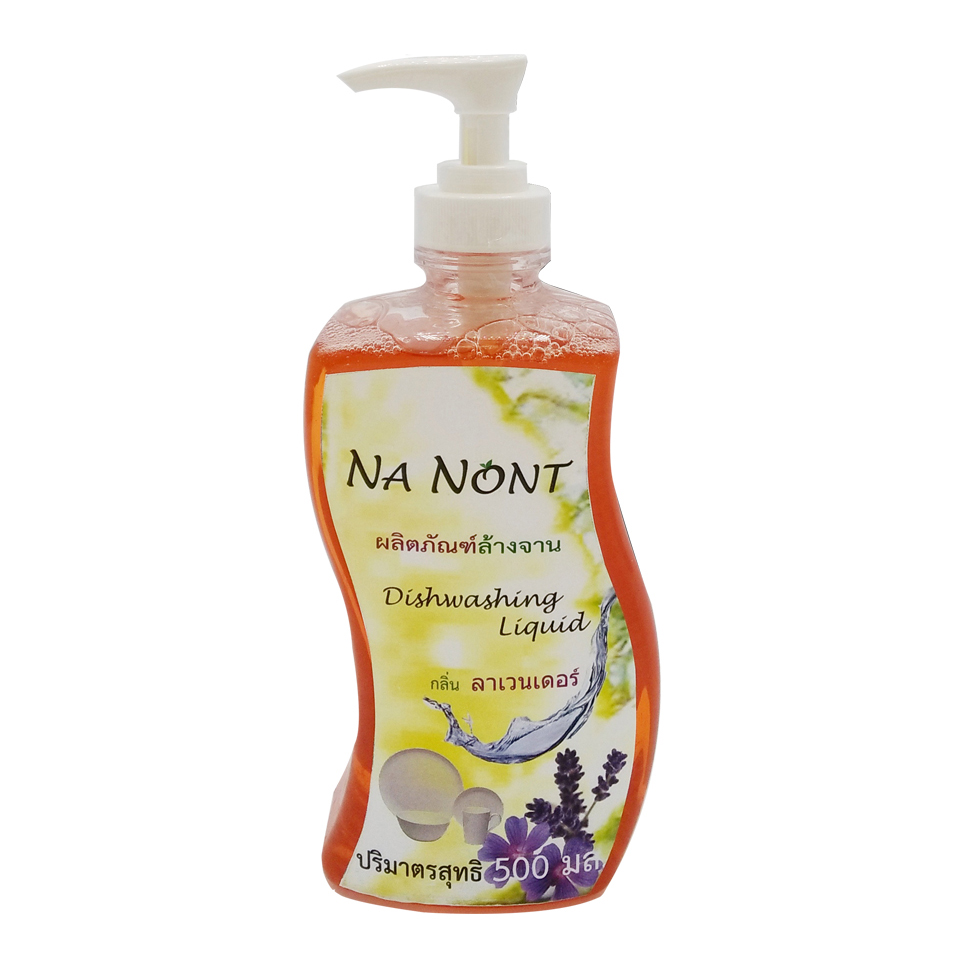Cleaning_solution: (288, 47, 674, 928)
